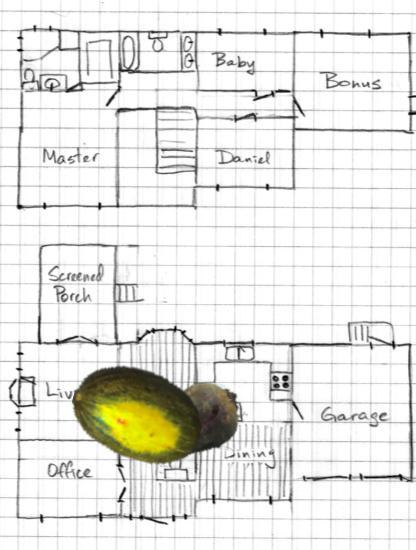Beetroot: (135, 368, 250, 483)
Melon: (71, 348, 204, 481)
